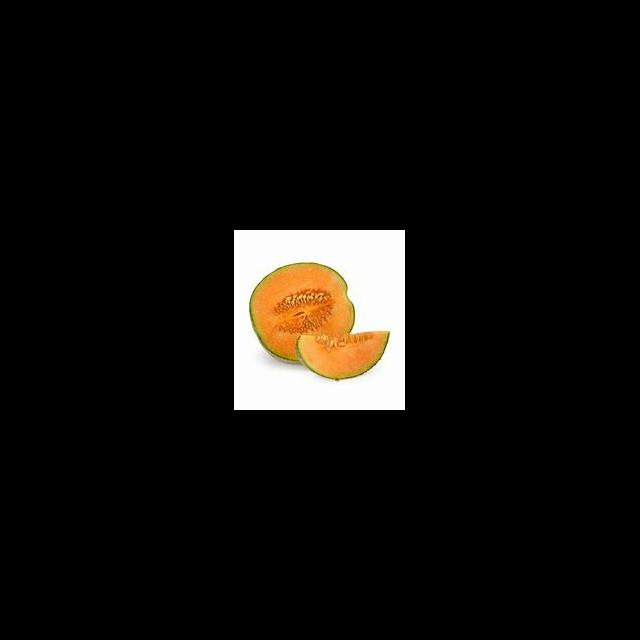Hami Melon: (250, 263, 355, 364), (297, 330, 390, 379)
